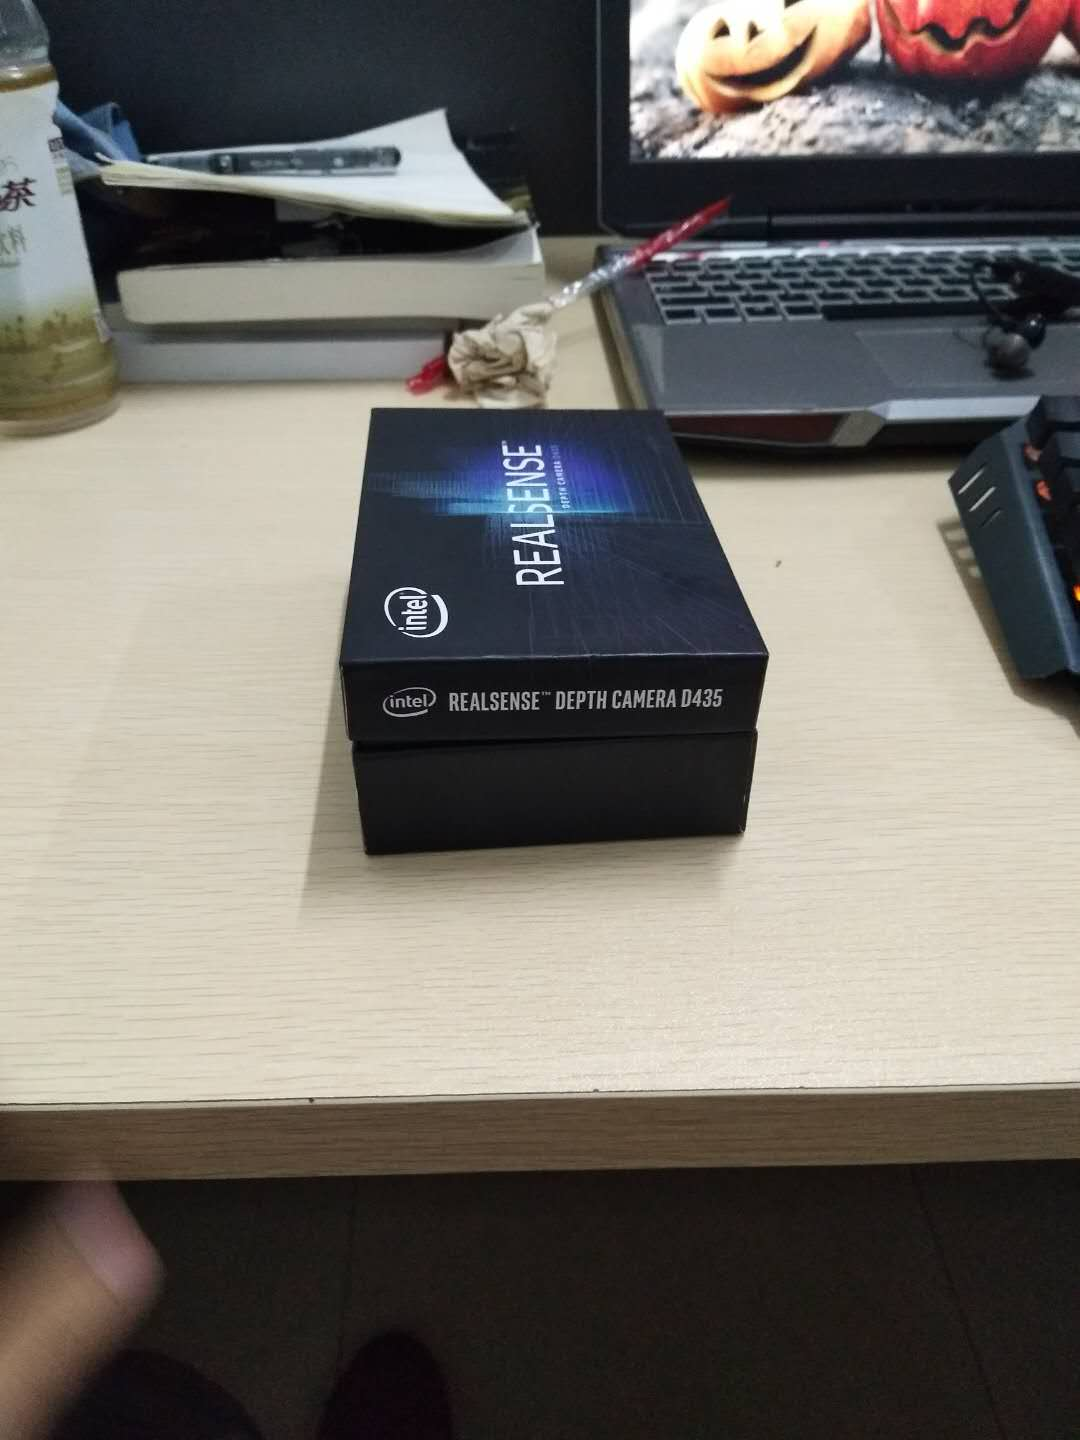box: (288, 387, 802, 880)
